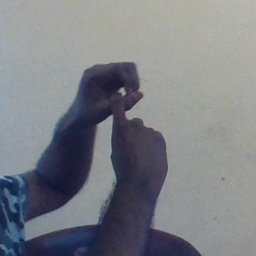Q: (72, 56, 174, 179)
